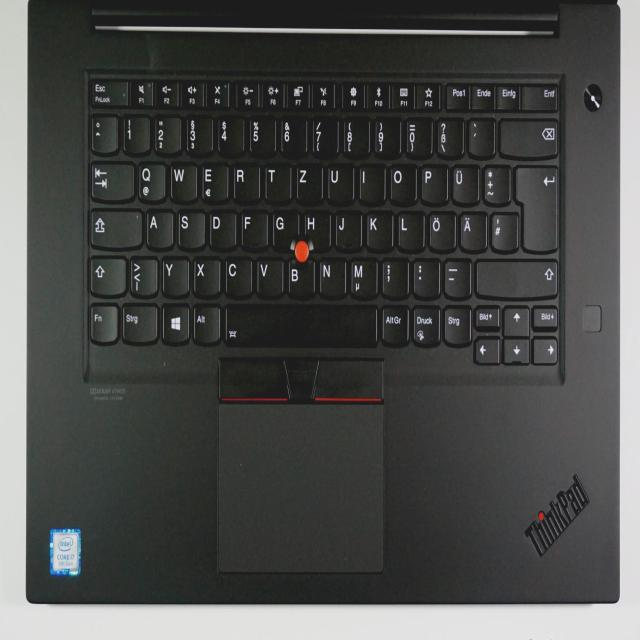0: (404, 115, 432, 156)
1: (122, 112, 150, 154)
2: (153, 112, 181, 153)
3: (185, 114, 213, 154)
4: (217, 113, 245, 154)
5: (248, 114, 276, 154)
6: (279, 114, 307, 154)
7: (311, 115, 339, 155)
8: (341, 115, 369, 155)
9: (373, 116, 401, 156)
a: (145, 207, 173, 248)
accent: (466, 115, 494, 156)
ae: (459, 209, 487, 251)
alt-left: (191, 302, 220, 344)
altgr-right: (380, 302, 408, 344)
b: (286, 257, 314, 297)
c: (223, 254, 251, 296)
caret: (89, 111, 117, 151)
comma: (380, 255, 408, 296)
d: (208, 208, 236, 250)
del: (498, 116, 558, 158)
e: (200, 160, 228, 202)
enter: (514, 162, 558, 251)
f: (240, 208, 268, 249)
g: (271, 208, 297, 250)
h: (303, 208, 331, 249)
hash: (490, 209, 518, 250)
i: (357, 163, 385, 203)
j: (334, 208, 362, 250)
k: (365, 208, 393, 250)
keyboard: (85, 73, 565, 375)
l: (396, 209, 424, 251)
less: (129, 254, 158, 296)
m: (349, 256, 378, 298)
minus: (442, 256, 470, 296)
n: (318, 255, 346, 297)
o: (388, 162, 416, 204)
oe: (427, 209, 455, 251)
p: (420, 162, 448, 204)
plus: (482, 162, 510, 204)
point: (412, 256, 440, 296)
q: (136, 160, 166, 201)
r: (232, 161, 260, 202)
s: (176, 207, 204, 248)
shift-left: (88, 253, 125, 295)
shift-lock: (88, 206, 142, 248)
shift-right: (474, 255, 558, 297)
space: (223, 302, 378, 345)
ss: (436, 116, 464, 156)
strg-left: (120, 301, 158, 343)
strg-right: (442, 303, 470, 345)
t: (264, 161, 291, 202)
tab: (89, 158, 134, 200)
u: (326, 162, 354, 204)
ue: (451, 163, 479, 205)
v: (255, 255, 283, 297)
w: (169, 160, 197, 201)
x: (193, 254, 221, 296)
y: (161, 254, 189, 296)
z: (295, 161, 323, 203)
